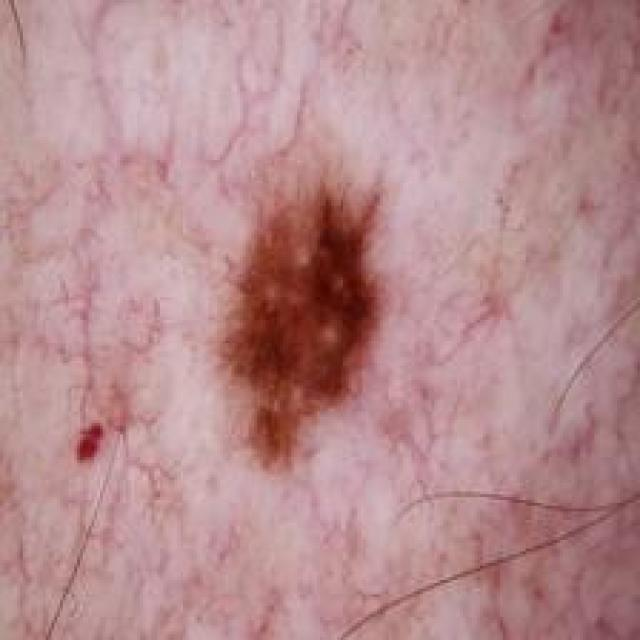Cancer: (212, 163, 388, 471)
